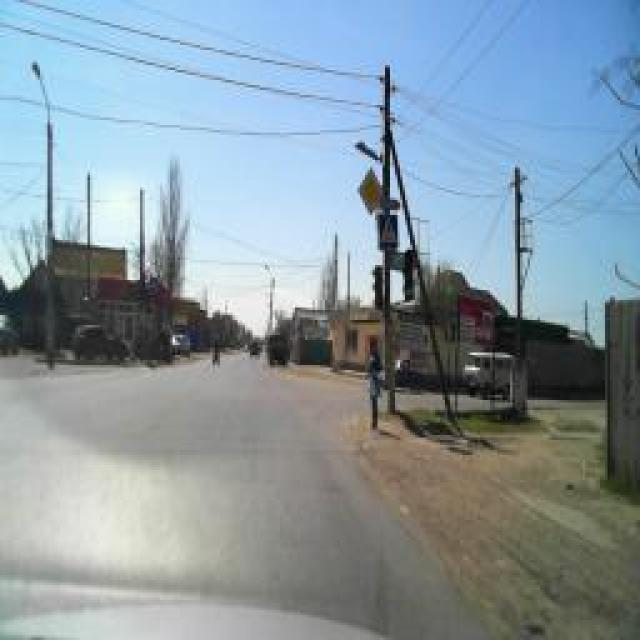sign: (355, 168, 383, 218)
